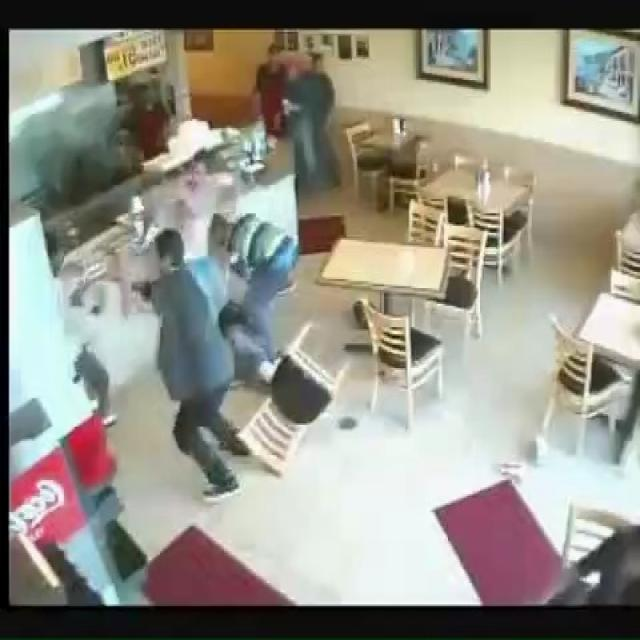fight: (36, 226, 258, 515), (208, 209, 299, 387)
